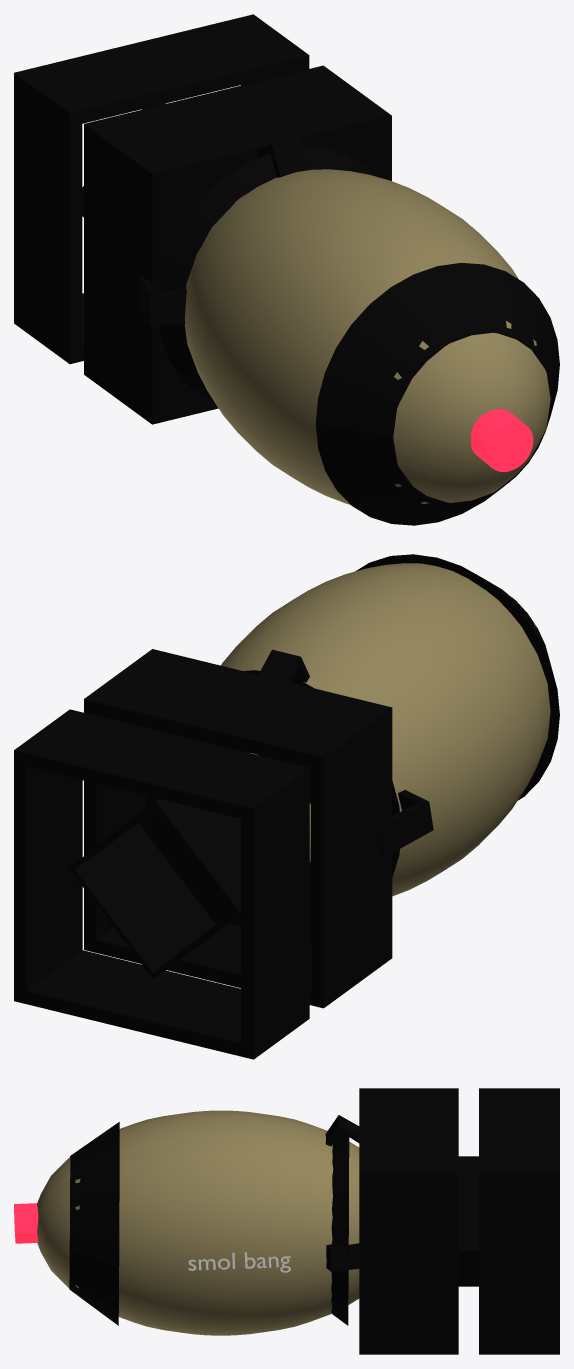
The model's file is smolBang 1.fbx.
3 renders of one model, top to bottom at view 1: azimuth 30°, elevation 25°; view 2: azimuth 150°, elevation 25°; view 3: azimuth 270°, elevation 25°, orthographic. The views are drawn at different scales.
Visible parts, largest first — view 1: Cube, Sphere, Cylinder.001, Cylinder.002, Cylinder, Cube.004, Cube.002; view 2: Cube, Sphere, Cube.001, Cylinder.001, Cube.004, Cube.002; view 3: Sphere, Cube, Cylinder.001, Cylinder.002, Cube.001, Cylinder, Cube.003, Text, Cube.002.
Boxes of the visible parts, bbox=[...] form: Cube: bbox=[14, 14, 391, 424]; Sphere: bbox=[184, 169, 550, 504]; Cylinder.001: bbox=[315, 262, 559, 525]; Cylinder.002: bbox=[159, 147, 374, 401]; Cylinder: bbox=[470, 409, 533, 471]; Cube.004: bbox=[138, 276, 186, 325]; Cube.002: bbox=[257, 137, 309, 177]; Cube: bbox=[14, 649, 392, 1059]; Sphere: bbox=[221, 563, 550, 896]; Cube.001: bbox=[69, 798, 240, 978]; Cylinder.001: bbox=[355, 554, 559, 800]; Cube.004: bbox=[379, 790, 433, 857]; Cube.002: bbox=[258, 649, 309, 682]; Sphere: bbox=[37, 1110, 359, 1335]; Cube: bbox=[359, 1088, 559, 1354]; Cylinder.001: bbox=[69, 1122, 119, 1325]; Cylinder.002: bbox=[331, 1132, 349, 1325]; Cube.001: bbox=[458, 1156, 478, 1286]; Cylinder: bbox=[14, 1203, 38, 1243]; Cube.003: bbox=[326, 1243, 359, 1271]; Text: bbox=[188, 1252, 290, 1272]; Cube.002: bbox=[325, 1115, 359, 1146].
Bounding box in the file's own units: 50.4 × 49.28 × 119.
